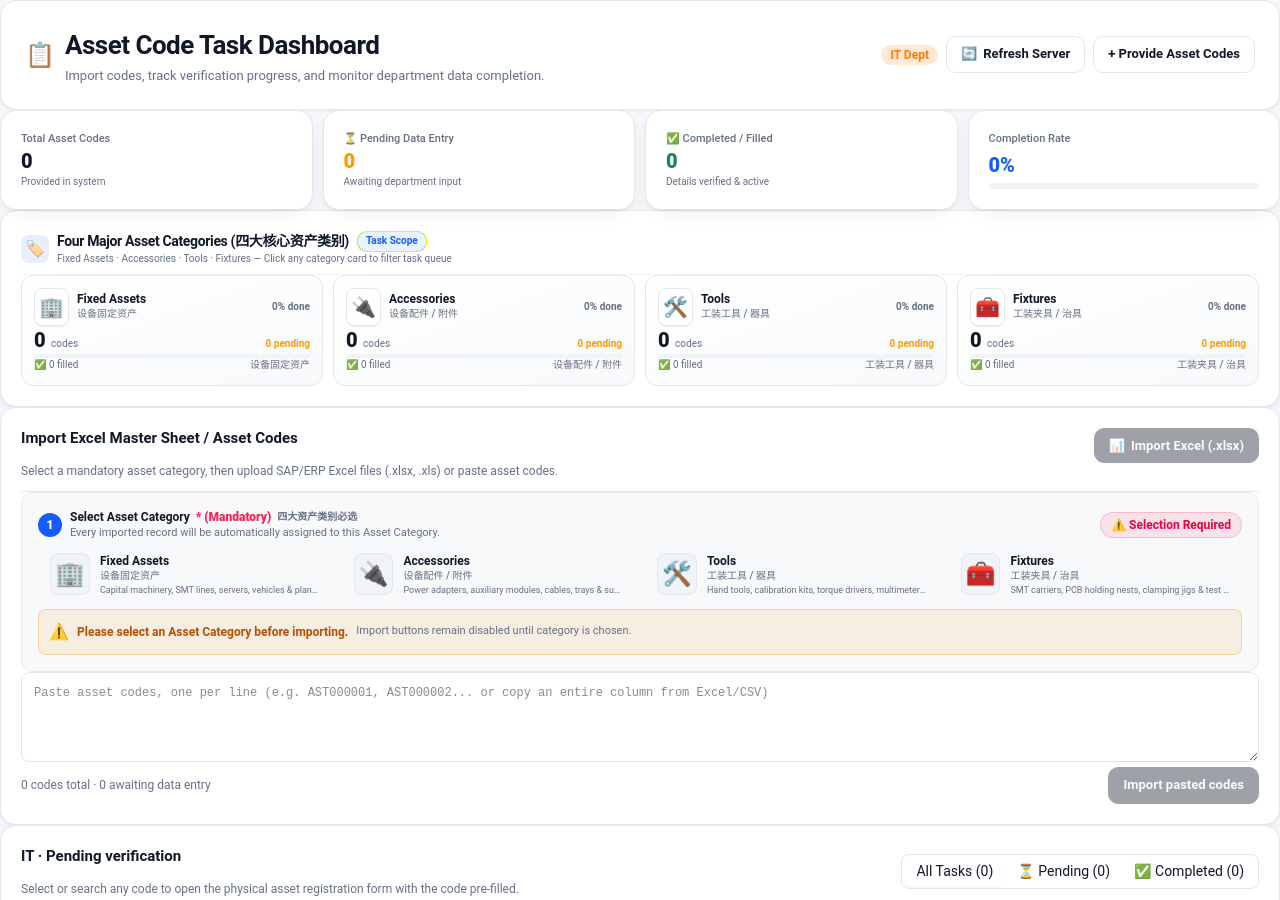
Test: Mandatory Asset Category Selection & Import Workflow › cancelling confirmation dialog does not call onImportCodes
Later steps or results of the test are not shown.
Step 1. Click the button with aria-label "Select Category Fixtures" → [980, 574], box [948,541,1242,609]
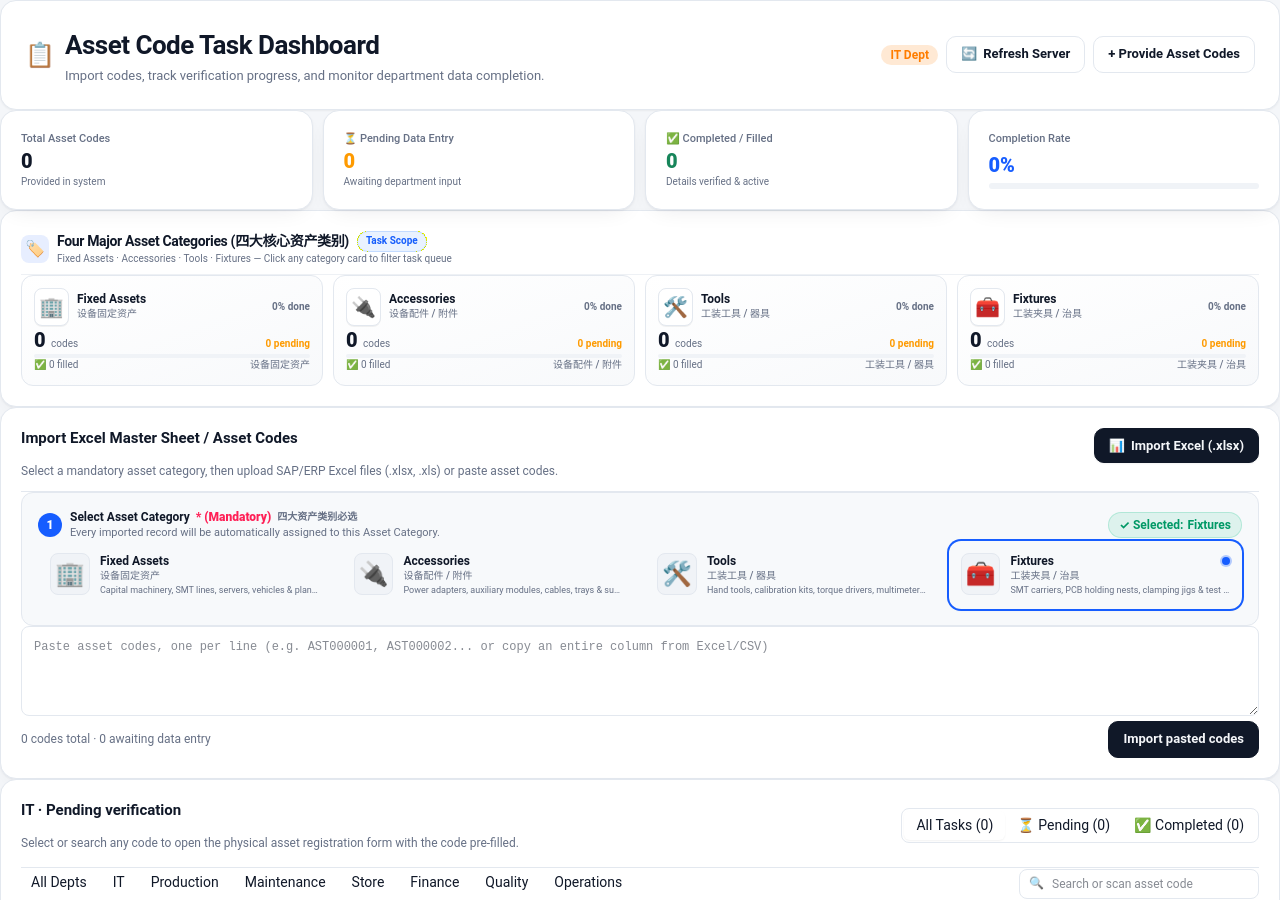
Step 2. Replace the text in the text box labelled "Paste asset codes" with "FIX-001" → [640, 671], box [21,626,1259,716]
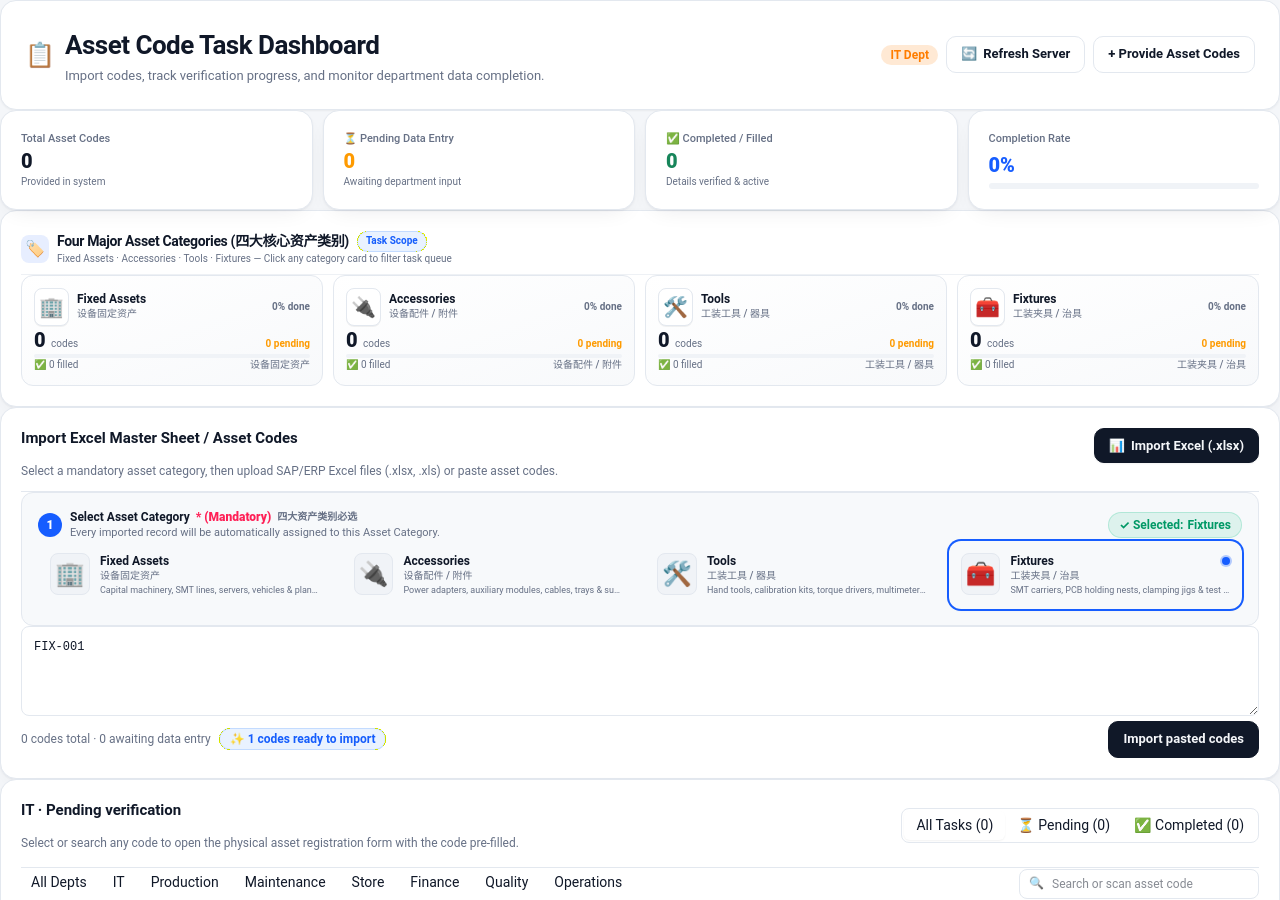
Step 3. Click the button "Import pasted codes" → [1184, 739], box [1108,721,1259,758]
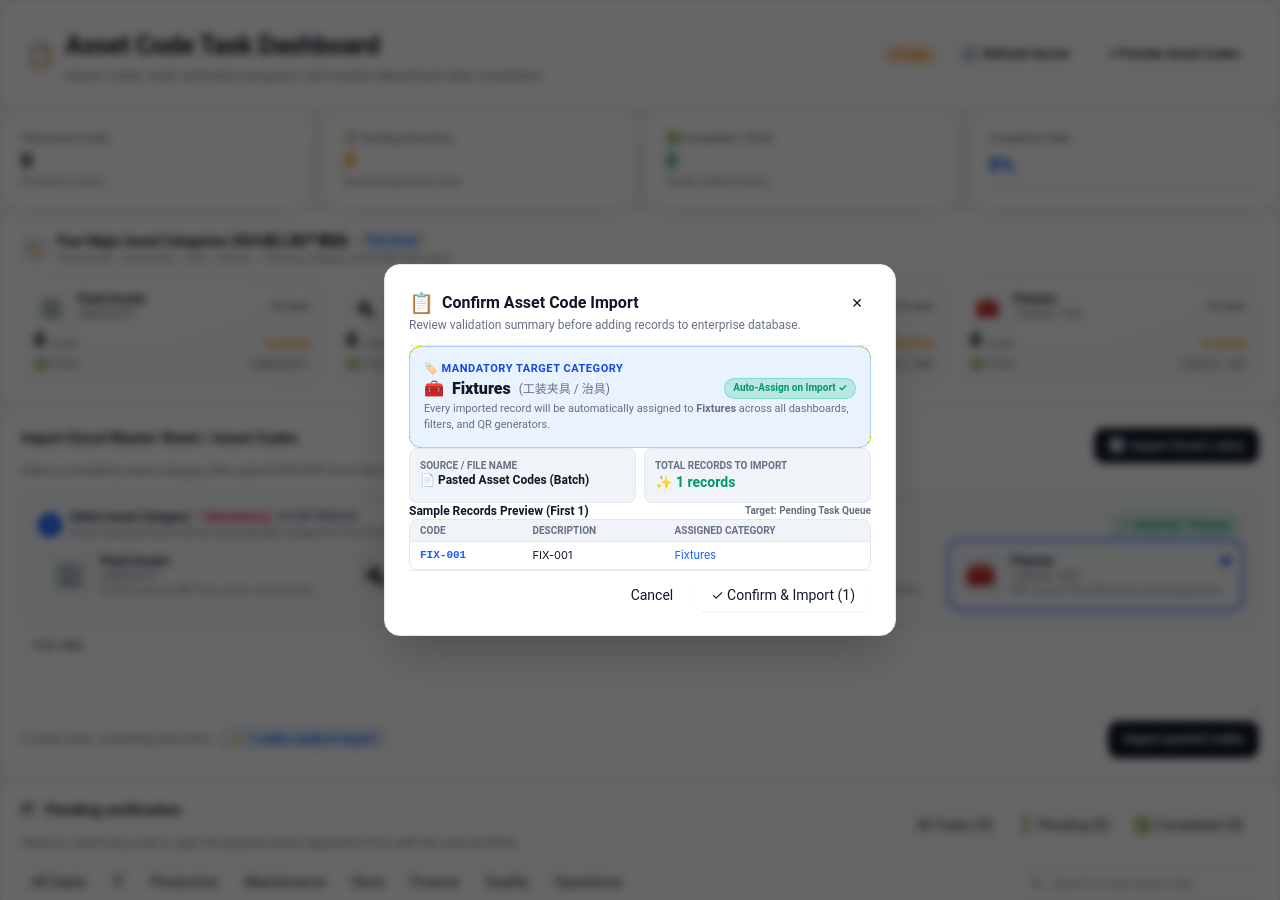
Expected: the heading "Confirm Asset Code Import" is shown, [442,291,639,315]
